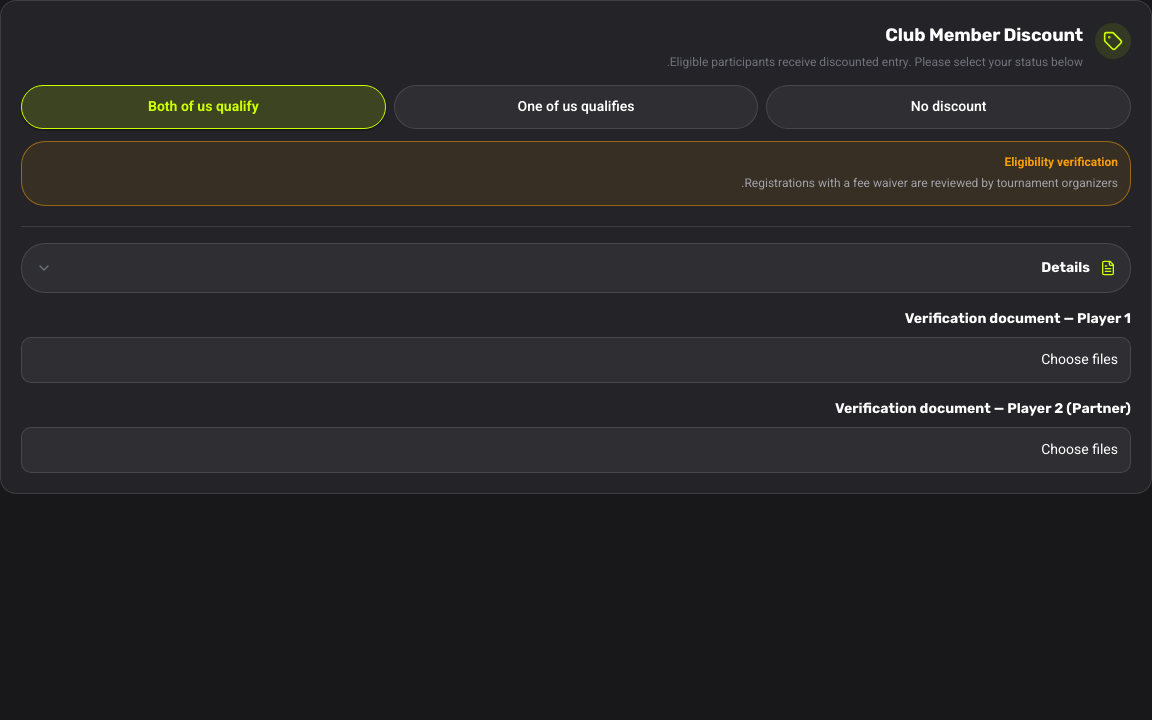
ResidencyWaiverSelector › Scenario 4: renders both dynamic waiver pills, evidence pickers, and expandable Details accordion (collapsed by default)
Expected: the heading "Club Member Discount" is shown, [885,24,1083,46]
Expected: the button with test id "waiver-option-2" is shown, [21,84,386,128]
// Test accordion expand on click
Click the button with test id "documents-required-accordion-toggle": click(1066, 268) [22,244,1130,292]
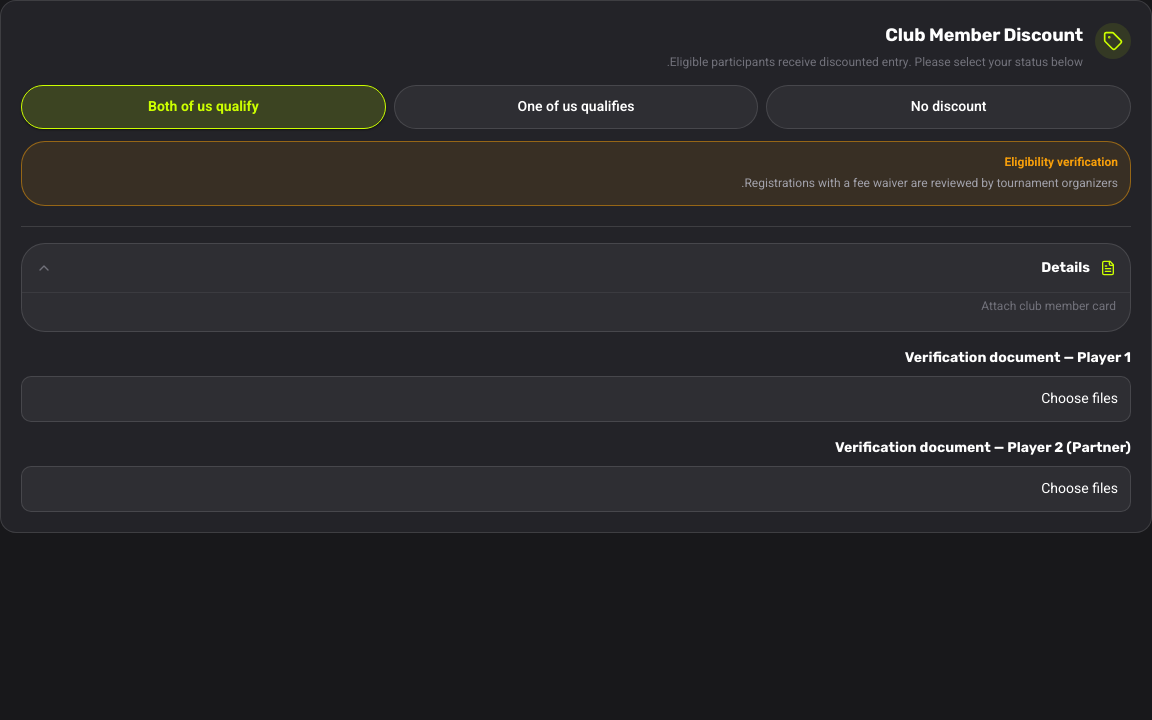
Expected: the text "Attach club member card" is shown, [22,292,1130,330]
// Test accordion collapse on second click
Click the button with test id "documents-required-accordion-toggle": click(1066, 268) [22,244,1130,292]
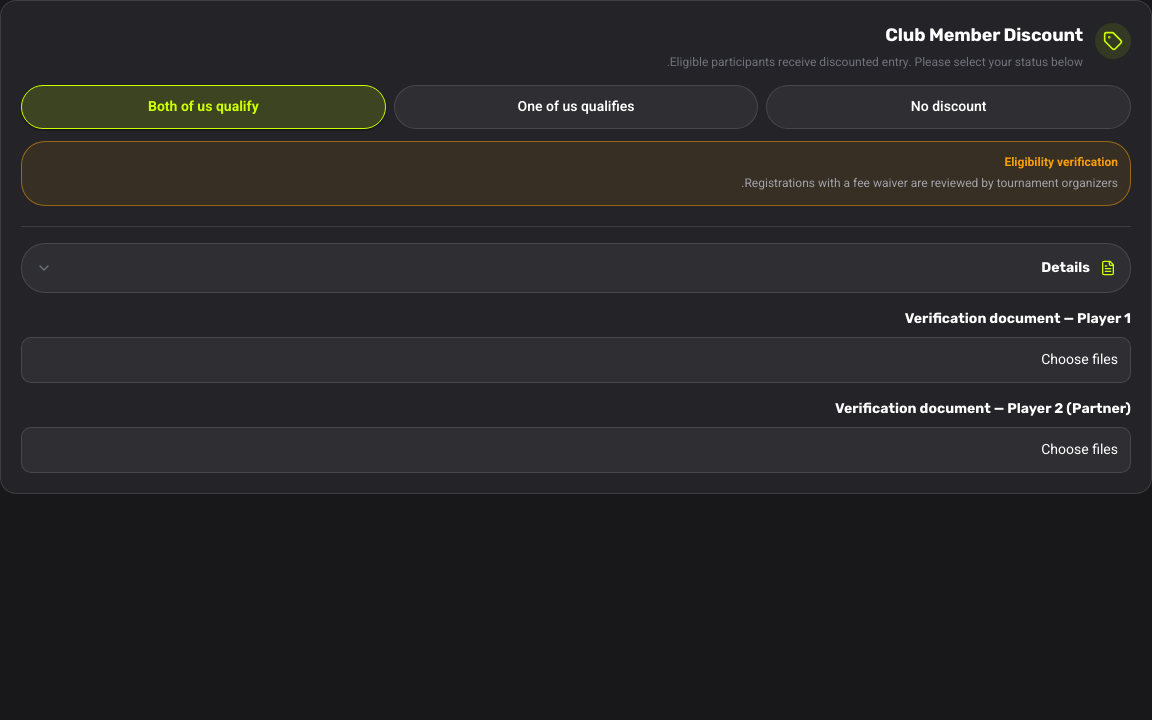
Expected: the text with test id "documents-required-accordion-content" is gone
